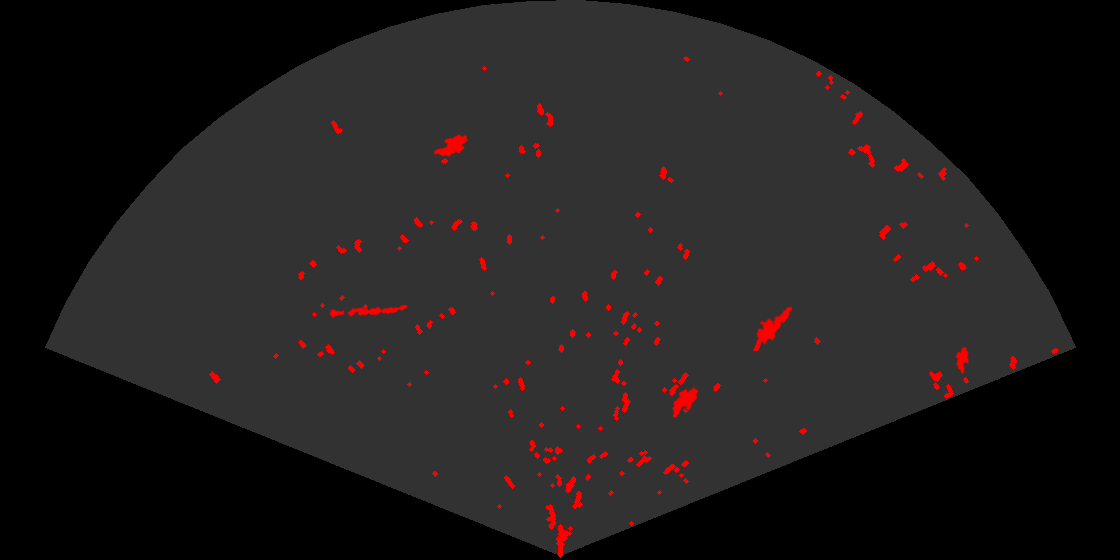AUV: (671, 386, 700, 420), (432, 133, 470, 158), (954, 345, 971, 375)
chain: (329, 303, 409, 320)
frogman: (752, 299, 794, 351)
